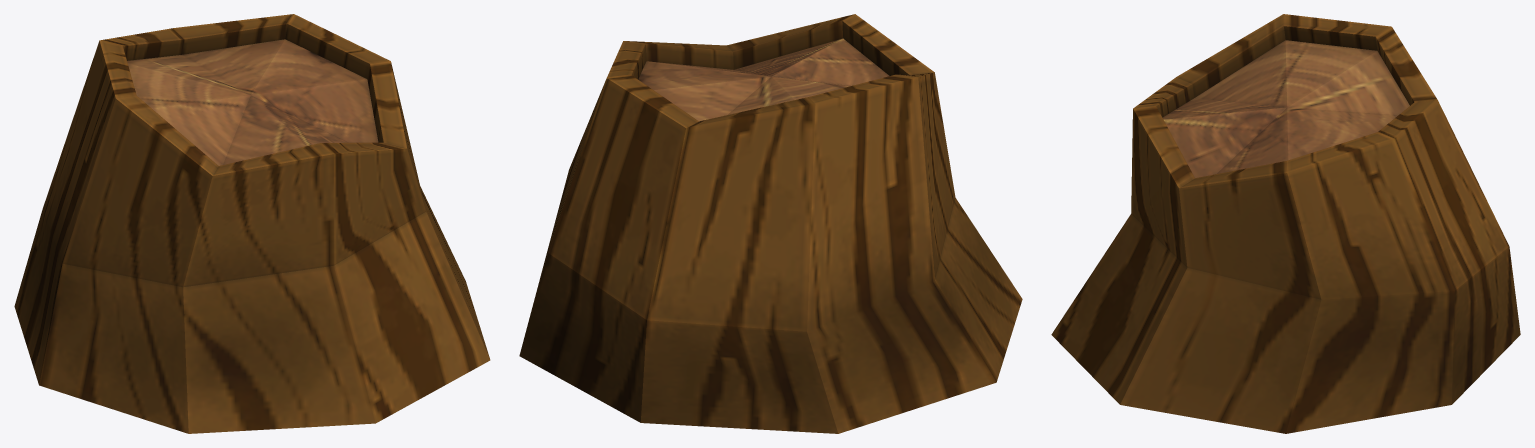
File: TreeStamp1.fbx
3 views of the same model, side by side, from view 1: azimuth 30°, elevation 25°; view 2: azimuth 150°, elevation 25°; view 3: azimuth 270°, elevation 25° (orthographic). The views are drawn at different scales.
Parts seen in each view (by area): view 1: TreeStamp1; view 2: TreeStamp1; view 3: TreeStamp1.
Boxes of the visible parts, <box> form: TreeStamp1: <box>14,14,490,433</box>; TreeStamp1: <box>519,14,1022,433</box>; TreeStamp1: <box>1051,14,1520,433</box>.
Size of the model in its own units: 85.07 by 52.58 by 85.07.
